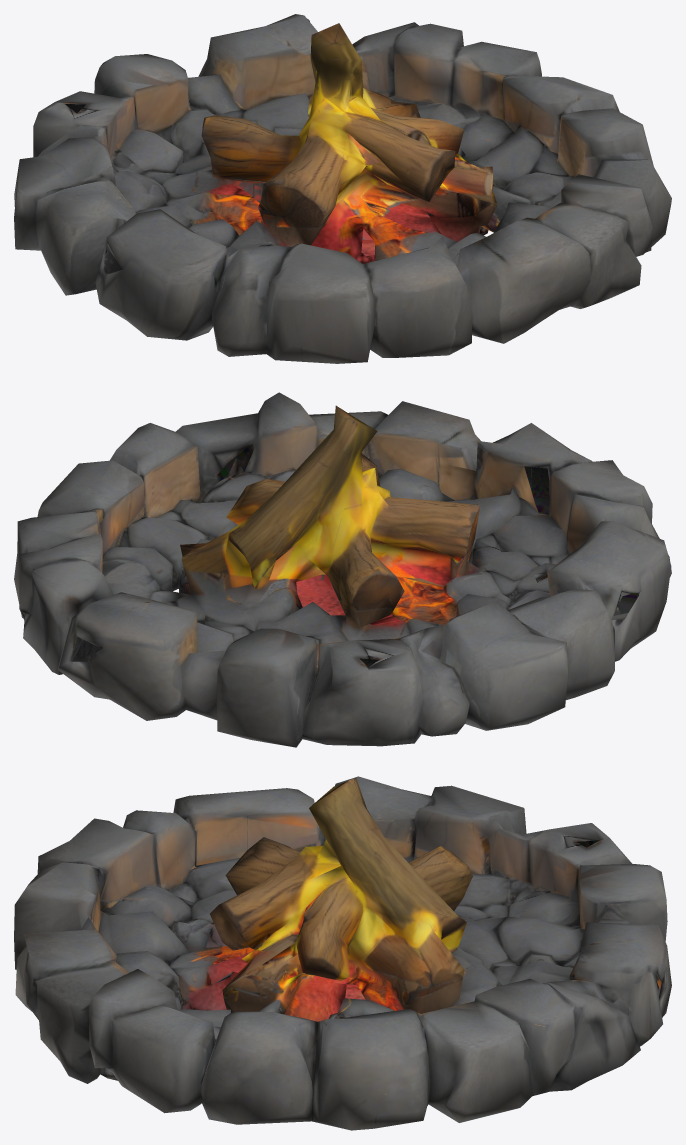
File: firepit.obj
3 views of the same model, one above another, from view 1: azimuth 30°, elevation 25°; view 2: azimuth 150°, elevation 25°; view 3: azimuth 270°, elevation 25° (orthographic). The views are drawn at different scales.
Visible parts, largest first — view 1: model; view 2: model; view 3: model.
Boxes of the visible parts, box(x1,y1,x2,y2) form: model: box(14, 14, 671, 363); model: box(14, 392, 671, 747); model: box(14, 776, 671, 1130).
Bounding box in the file's own units: 2 × 0.7446 × 2.
